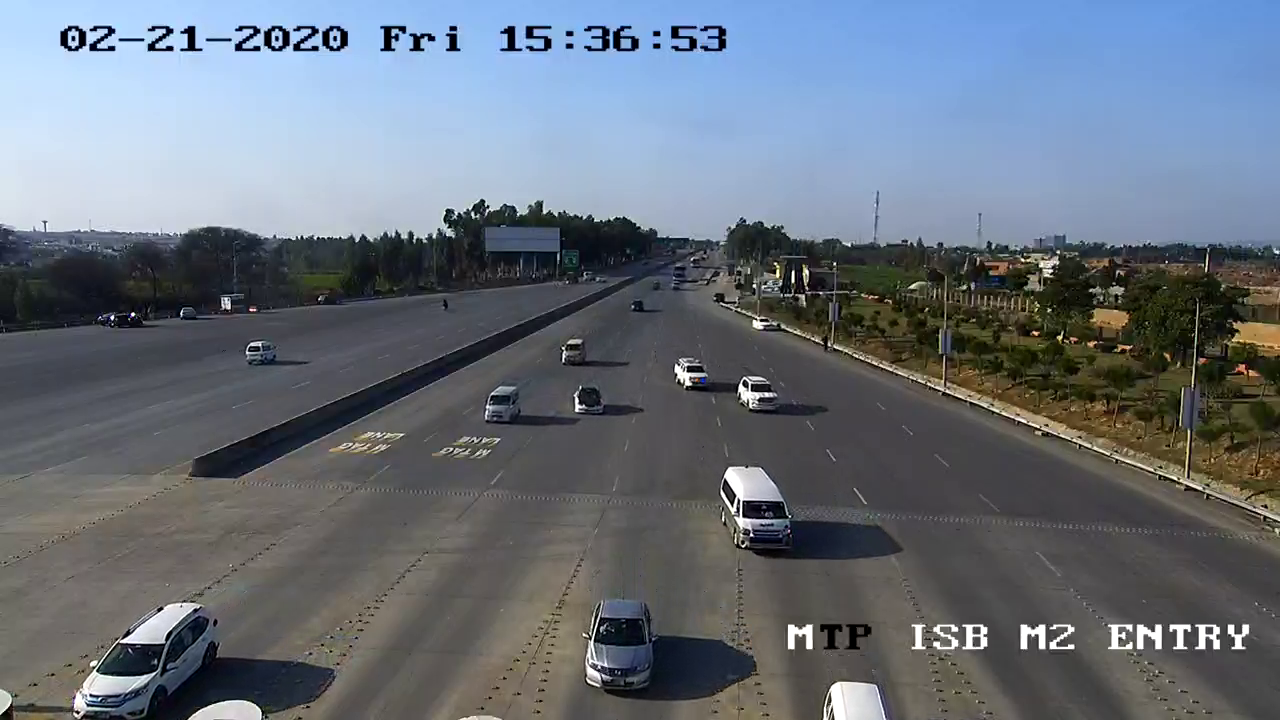f1: (55, 601, 232, 712), (566, 592, 665, 703), (726, 363, 788, 423), (662, 341, 719, 404), (477, 375, 531, 434), (560, 374, 615, 424), (542, 334, 600, 374)
f2: (711, 460, 804, 560)
